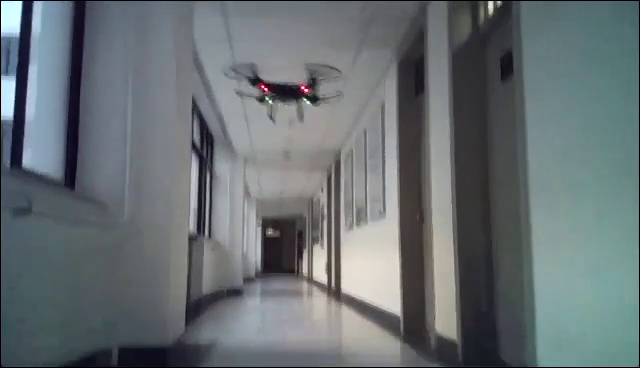drone: (222, 60, 346, 123)
